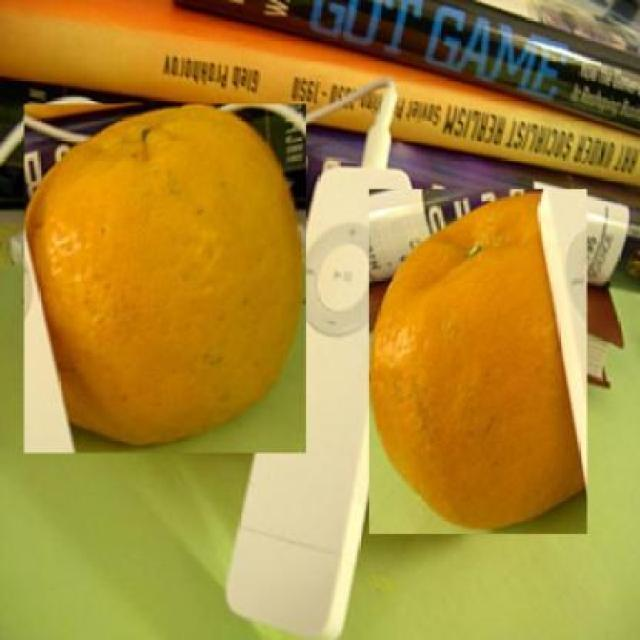Orange: (23, 104, 306, 453), (368, 189, 587, 534)
